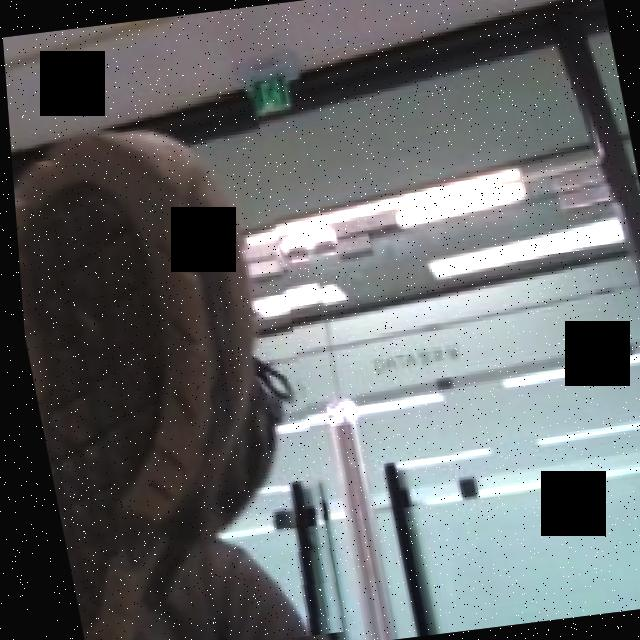shoe: (5, 90, 349, 640)
